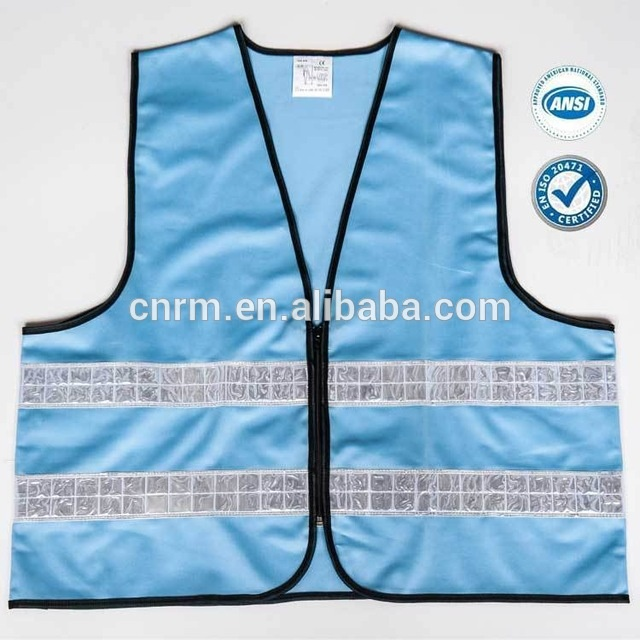safety vest: (25, 31, 629, 610)
